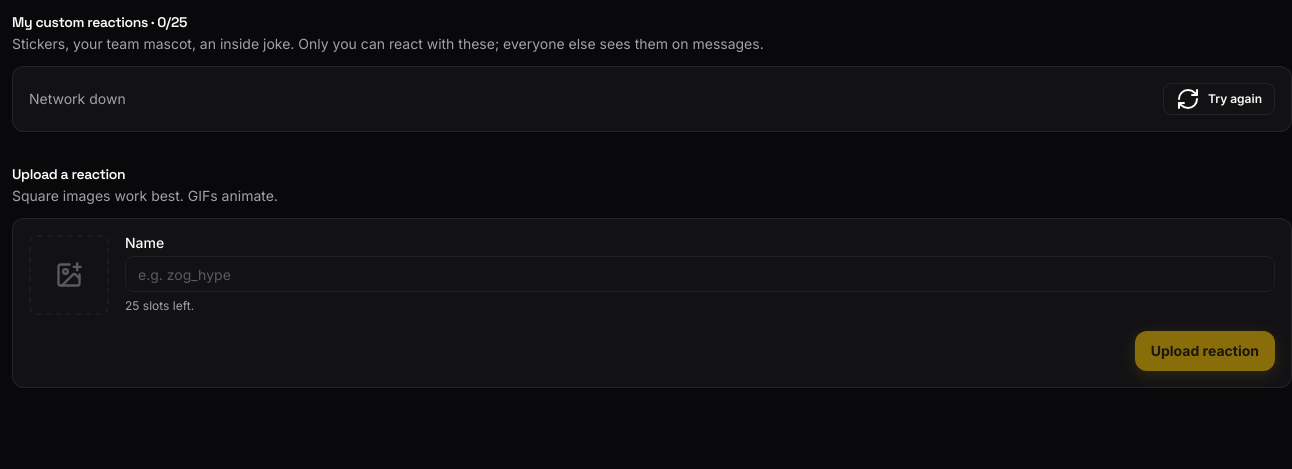
Test case: Settings → Reactions › a failed load is an error with Try again, not an empty list, and uploads wait for it
Expected: the message reads "Network down", [29,90,126,107]
Expected: the button named "Choose reaction image" is disabled, [29,235,109,315]
Click the button "Try again" at {"x": 1219, "y": 99}, box [1163,83,1275,115]
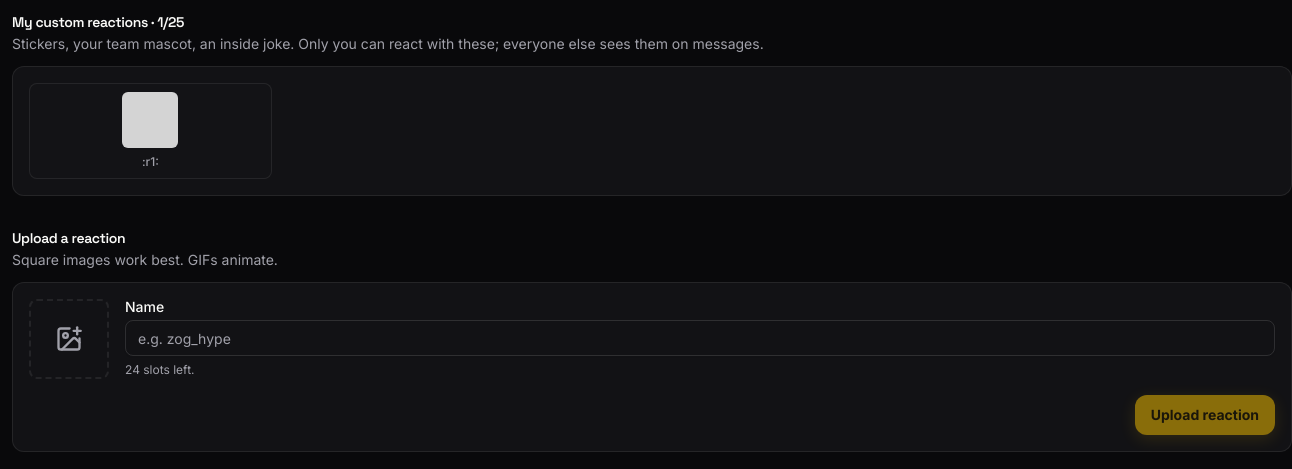
Now the button named "Choose reaction image" is enabled, box [29,299,109,379]
